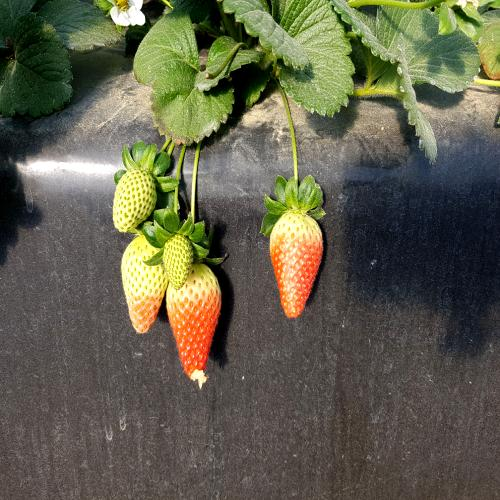partially-ripe: (164, 258, 230, 386), (270, 202, 326, 323), (114, 232, 166, 335)
